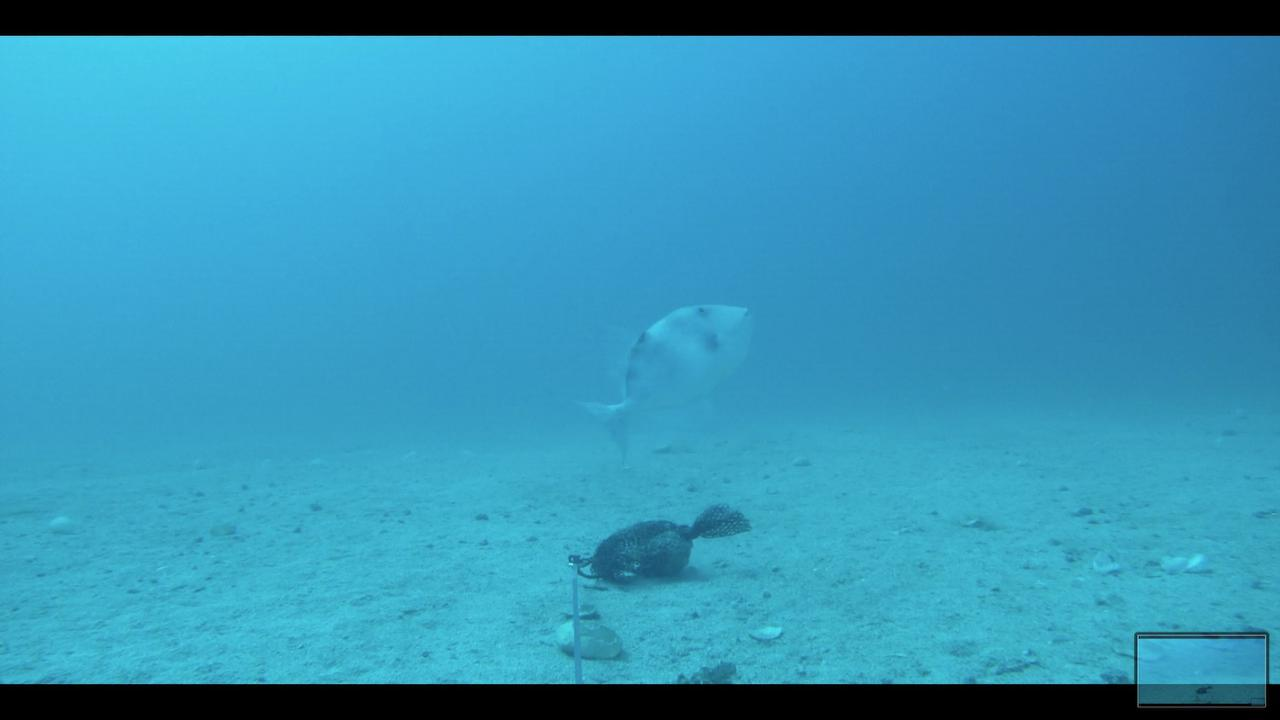balistes: (560, 296, 761, 474)
